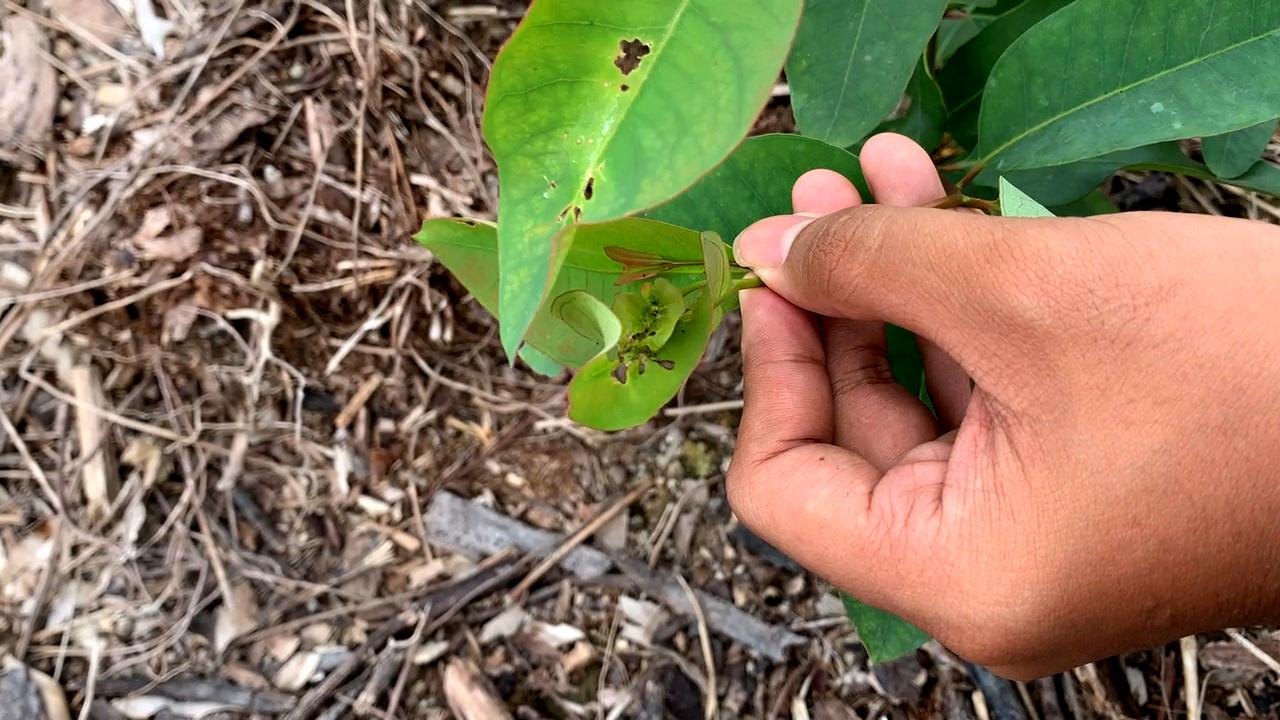Leaf Roller - Leaf: (552, 230, 750, 473)
